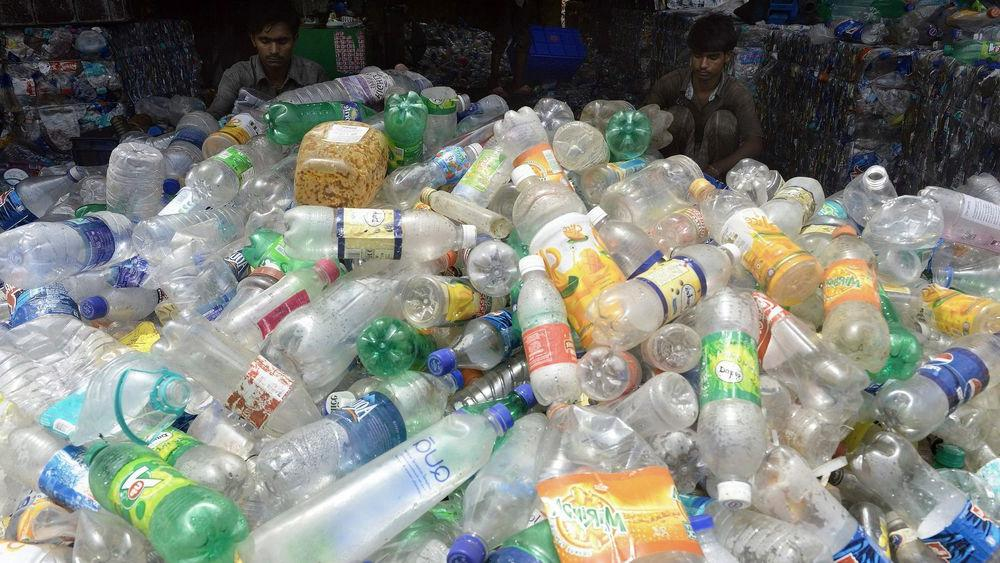Plastic: (225, 392, 517, 563), (570, 222, 760, 368), (679, 163, 843, 307), (79, 427, 245, 563), (682, 280, 770, 522), (851, 429, 993, 563), (872, 319, 997, 456), (262, 202, 490, 274), (0, 195, 144, 306), (74, 331, 198, 444), (506, 240, 574, 426), (420, 456, 535, 563), (821, 208, 887, 376), (416, 303, 510, 397), (834, 150, 918, 249), (261, 89, 368, 161), (486, 101, 570, 188), (384, 73, 442, 191), (604, 98, 660, 167)
